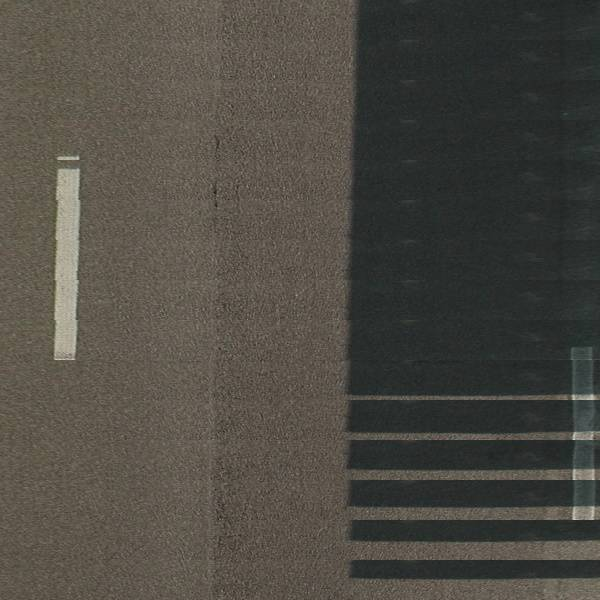road_damage: (208, 132, 226, 235)
